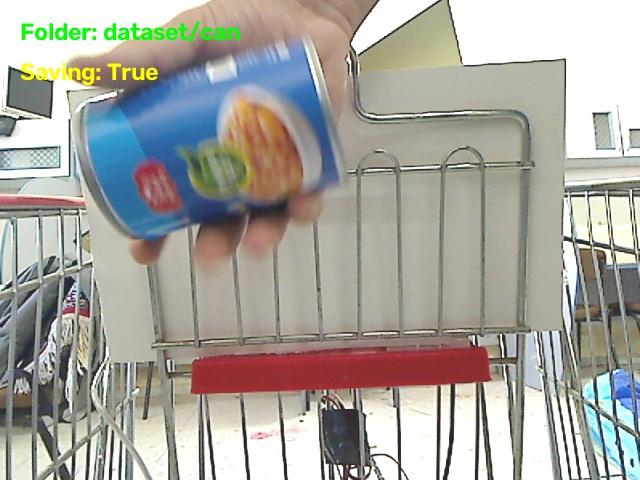can: (74, 39, 341, 238)
